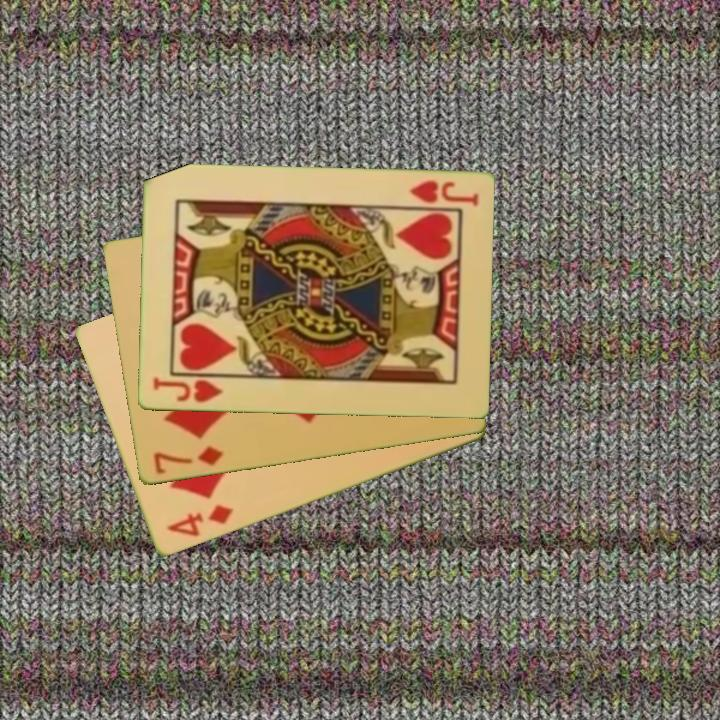4d: (163, 501, 236, 541)
7d: (149, 442, 226, 477)
Jh: (149, 373, 232, 405), (405, 177, 481, 209)
